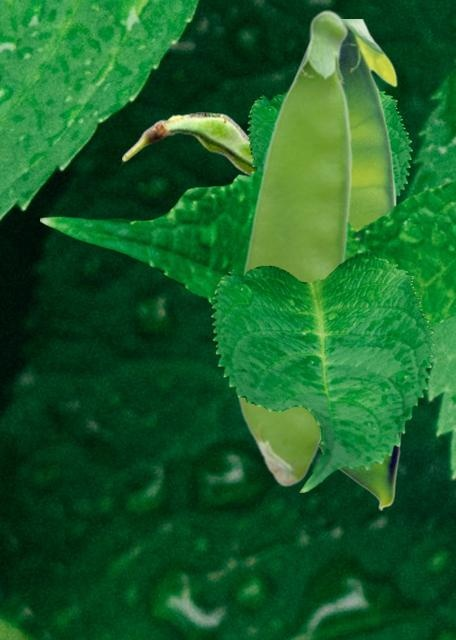pea: (234, 8, 352, 486), (287, 19, 400, 509), (122, 112, 255, 175)
